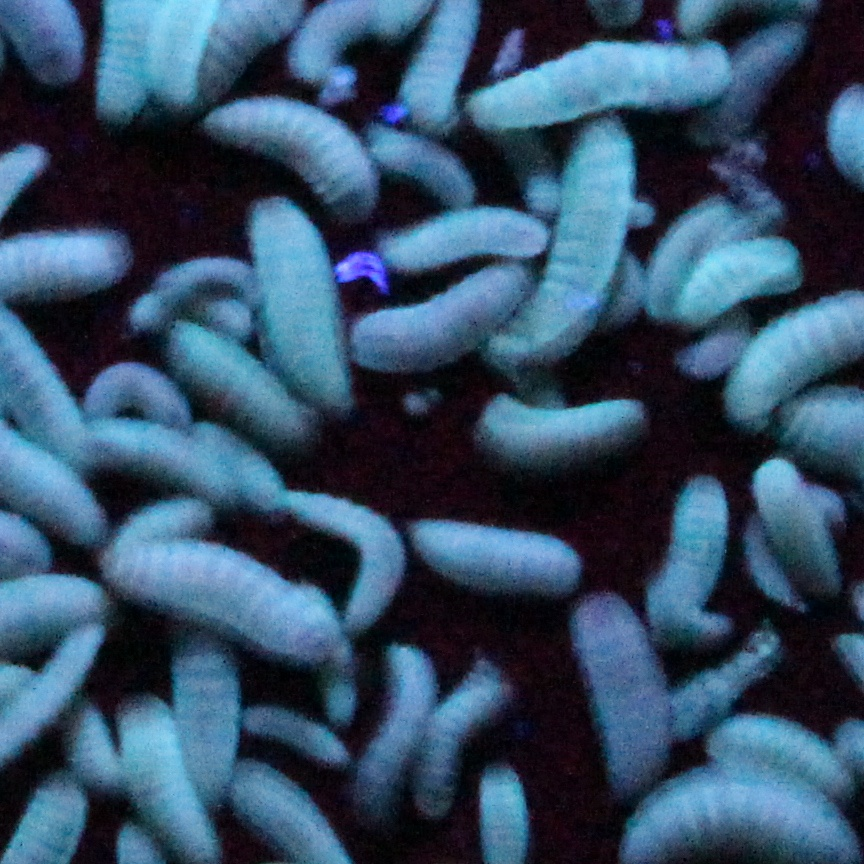larve: (94, 523, 354, 680), (484, 110, 638, 368), (156, 307, 326, 455), (242, 194, 356, 411), (465, 45, 736, 134), (193, 90, 380, 210), (570, 584, 674, 794), (353, 260, 546, 373), (709, 692, 859, 811), (406, 672, 516, 818), (405, 508, 585, 594), (652, 469, 736, 649), (472, 394, 652, 472), (753, 453, 855, 590), (365, 633, 431, 817), (377, 204, 558, 270), (105, 423, 231, 502), (237, 696, 348, 775), (684, 243, 807, 312), (735, 504, 803, 624), (86, 363, 186, 422)
